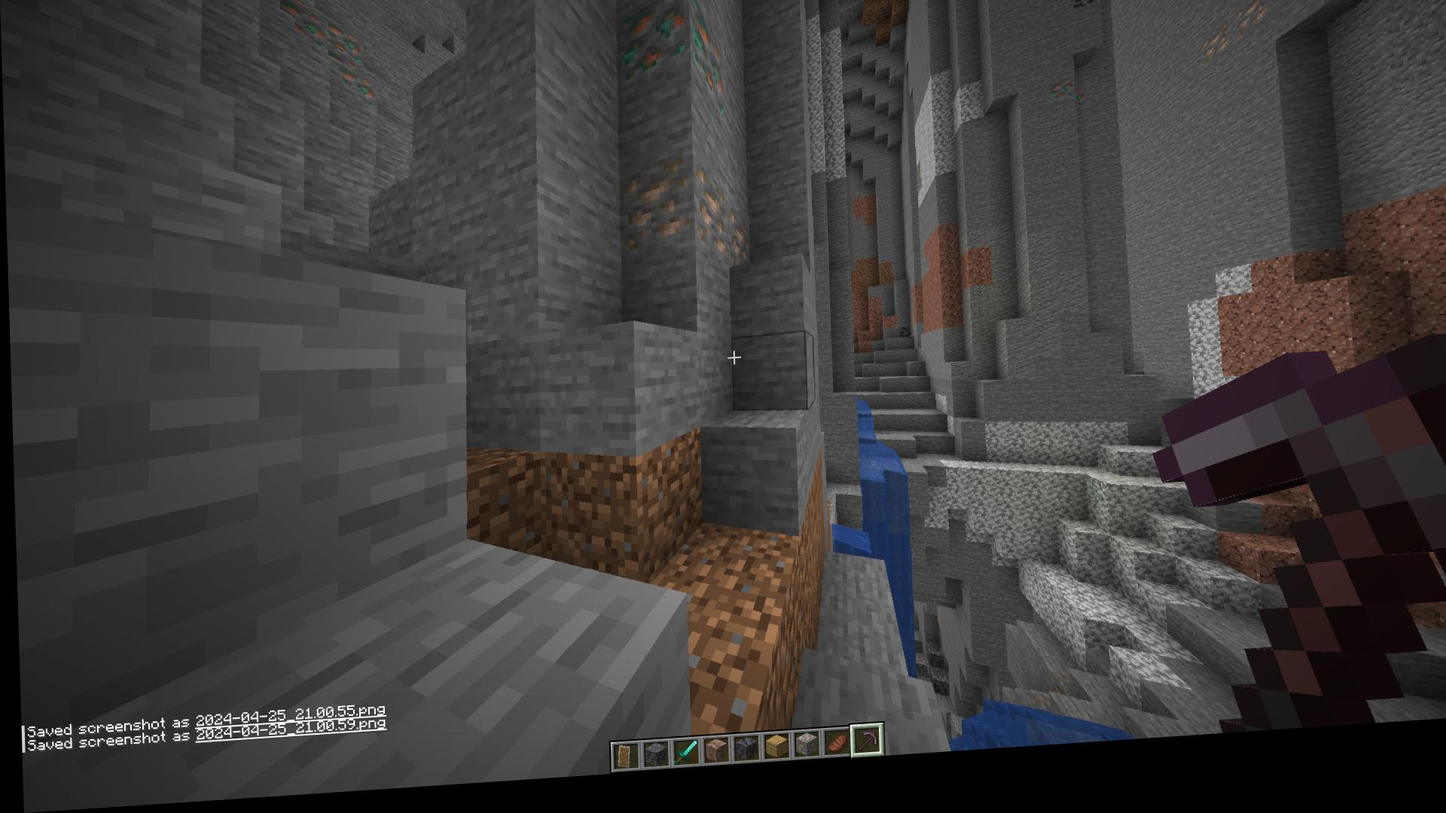iron ore: (620, 171, 692, 256), (689, 170, 729, 266), (726, 217, 750, 282), (1232, 10, 1270, 50), (1199, 43, 1231, 76)
